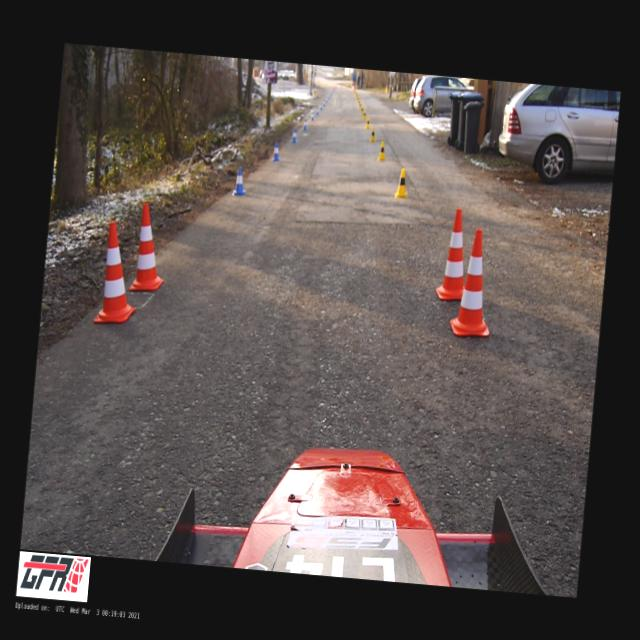blue_cone: (232, 166, 248, 196), (271, 141, 281, 162), (290, 129, 297, 143), (302, 119, 307, 131), (310, 112, 314, 121), (315, 106, 319, 114)
large_orange_cone: (448, 228, 497, 341), (93, 220, 142, 324), (128, 202, 170, 292), (435, 207, 474, 301)
yellow_cone: (394, 168, 409, 198), (376, 140, 386, 160), (369, 126, 376, 142), (364, 118, 371, 130), (362, 110, 366, 120), (360, 108, 364, 114)
